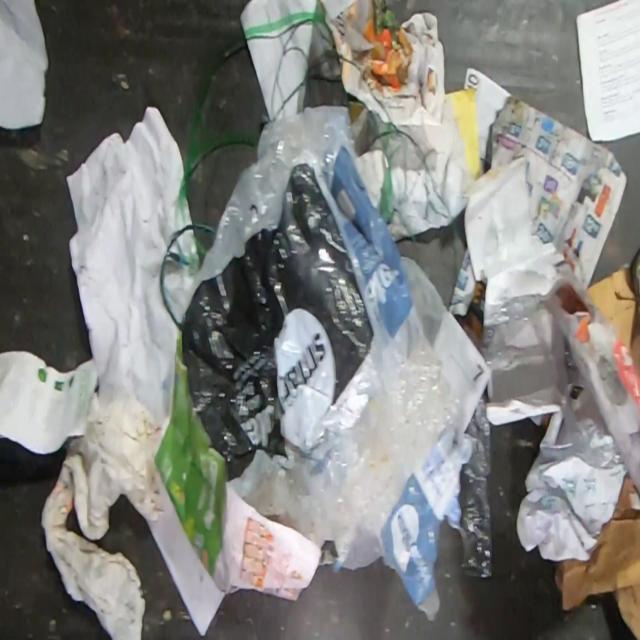cardboard: (554, 476, 640, 640), (587, 266, 640, 377)
soft_plastic: (180, 103, 494, 623), (485, 383, 628, 561), (479, 295, 540, 368)
